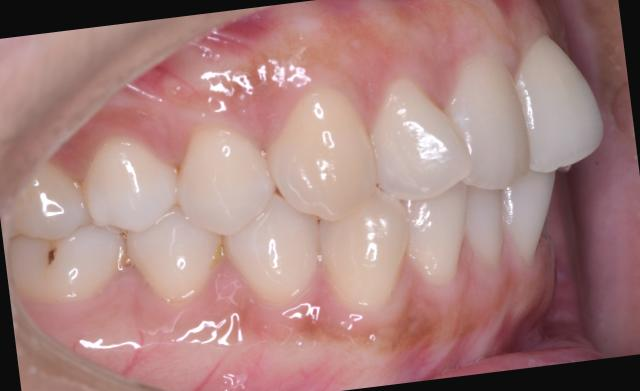canine class II 1/4: (207, 80, 420, 334)
molar class I: (0, 148, 133, 314)
